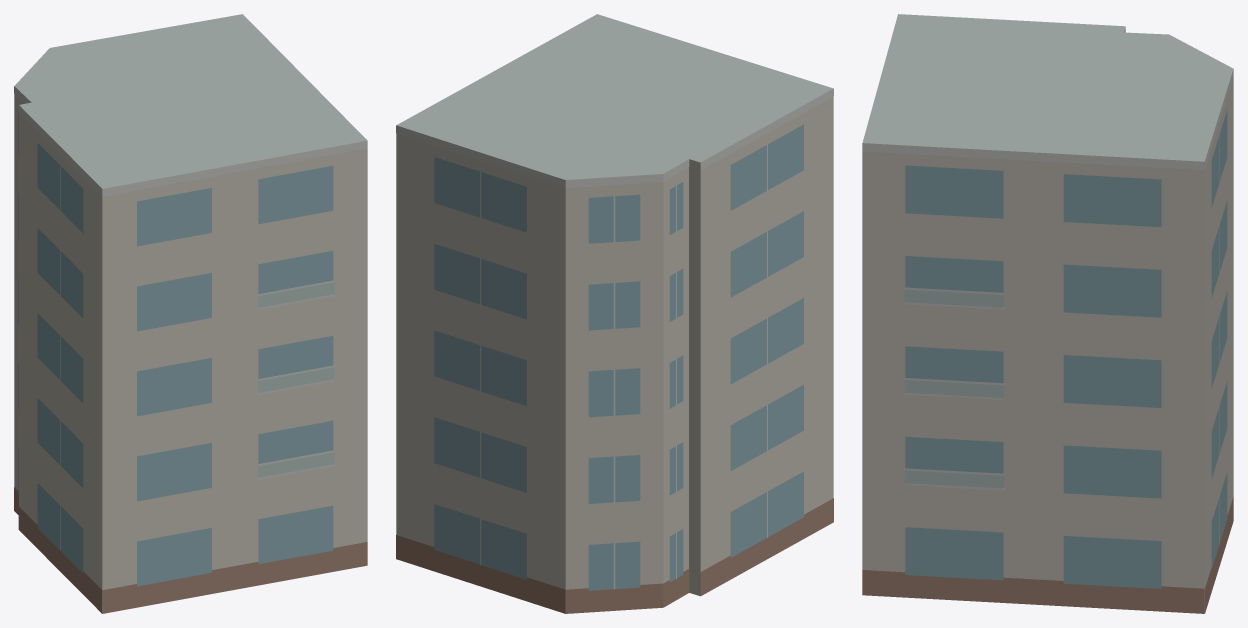
File: survey-upis-32523177.glb
3 views of the same model, side by side, from view 1: azimuth 30°, elevation 25°; view 2: azimuth 150°, elevation 25°; view 3: azimuth 270°, elevation 25° (orthographic). The views are drawn at different scales.
Visible parts, largest first — view 1: survey-upis-32523177.tmp; view 2: survey-upis-32523177.tmp; view 3: survey-upis-32523177.tmp.
Part boxes in pixels (x1,y1,x2,y2): survey-upis-32523177.tmp: [14, 14, 367, 613]; survey-upis-32523177.tmp: [396, 14, 833, 613]; survey-upis-32523177.tmp: [862, 14, 1233, 613].
Bounding box in the file's own units: 9.33 × 13.3 × 9.91.
